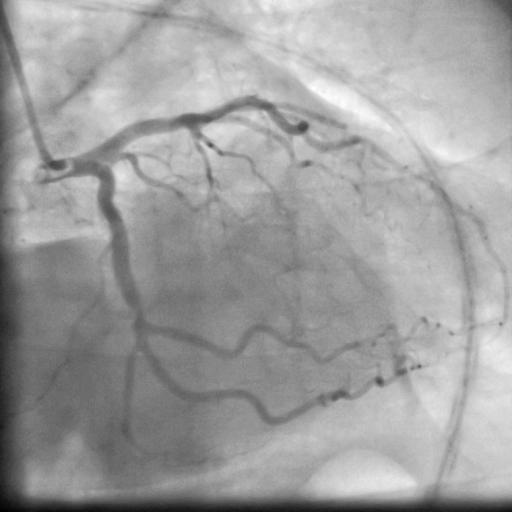Stenosis: (124, 298, 149, 319)
